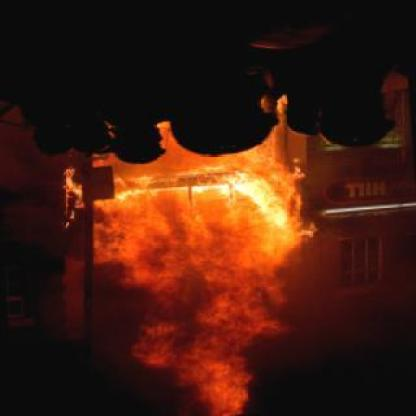Fire: (80, 113, 314, 416)
